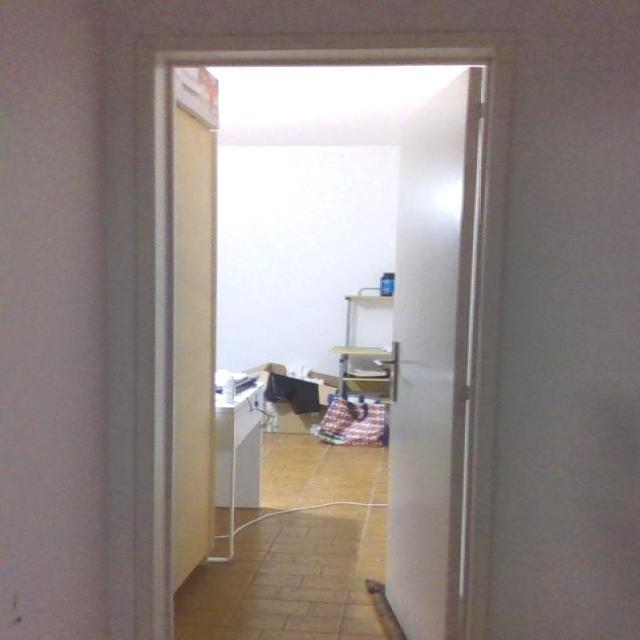door: (368, 64, 480, 640)
